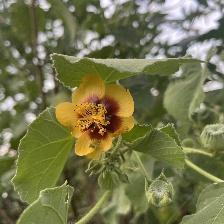indian mallow: (60, 73, 137, 157)
